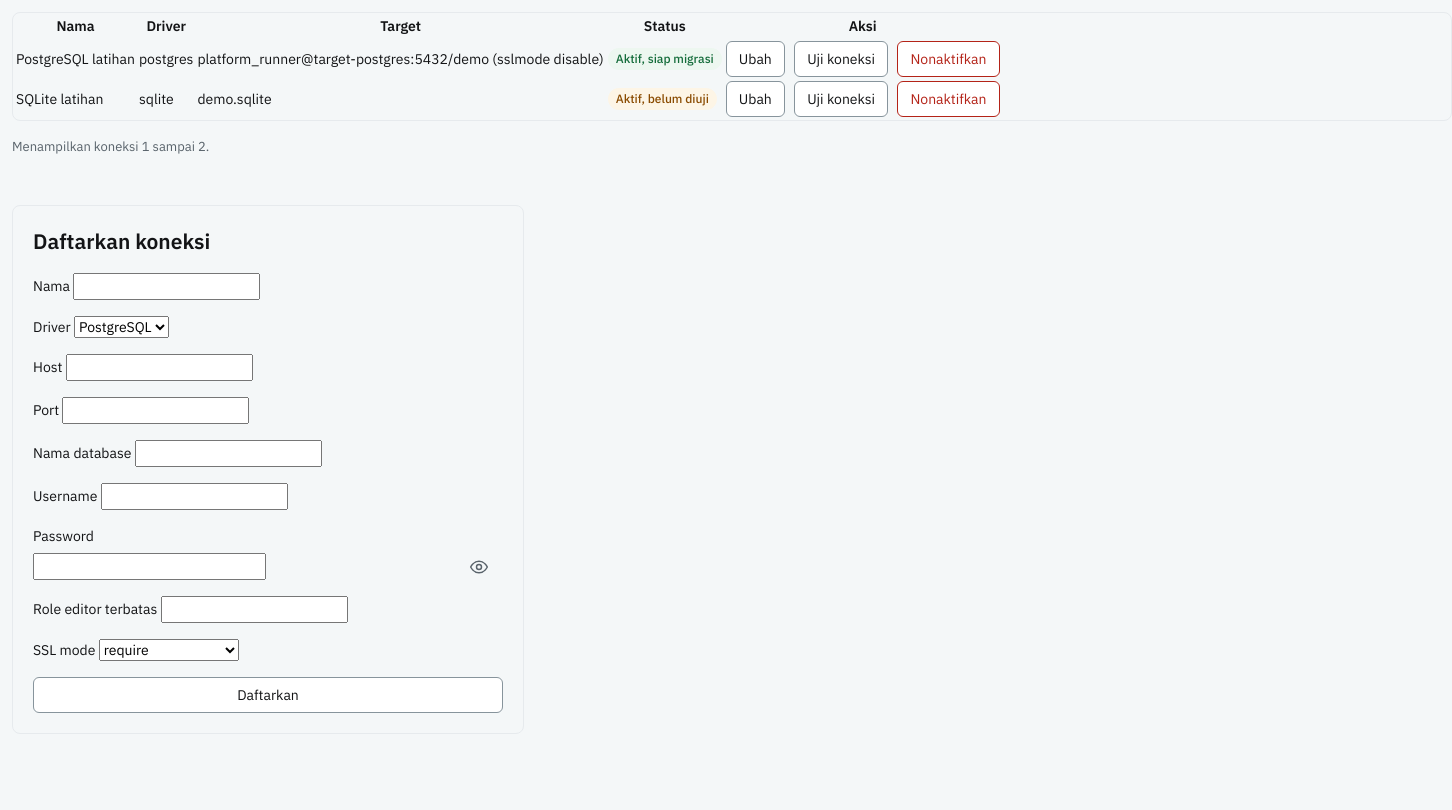
Test: ConnectionsPage › edits with the opened revision and sends only changed fields, keeping the password
Expected: the text "PostgreSQL latihan" is shown, [15,40,136,78]
Click the button "Ubah" in the row of "PostgreSQL latihan". click: (755,59)
box: [726,41,785,77]
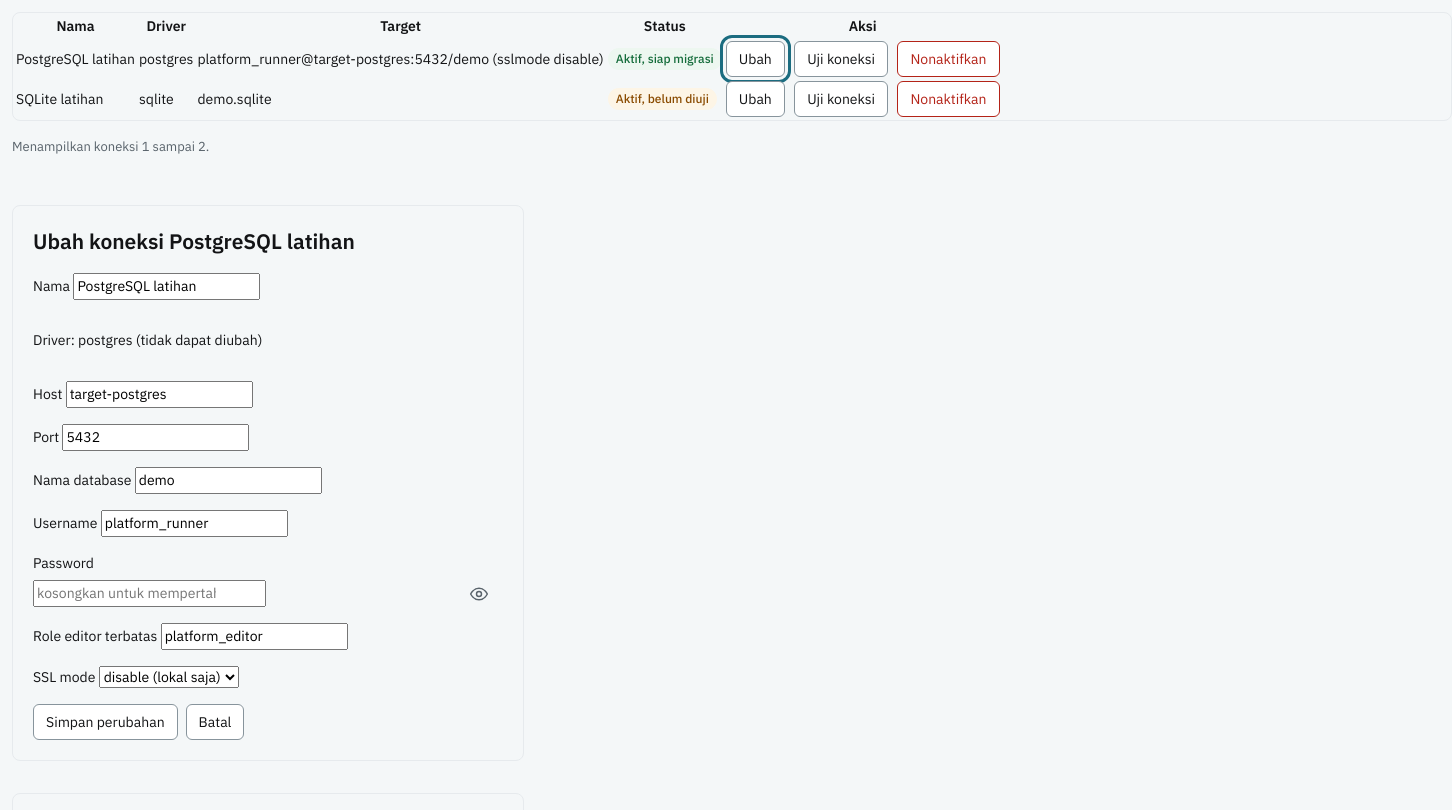
Expected: the field labelled "Host" holds "target-postgres", [66,381,253,408]
Expected: the password field labelled "Password" is empty, [33,580,266,607]
Replace the text in the number field labelled "Port" with "5433". click: (156,438)
box: [62,424,250,451]
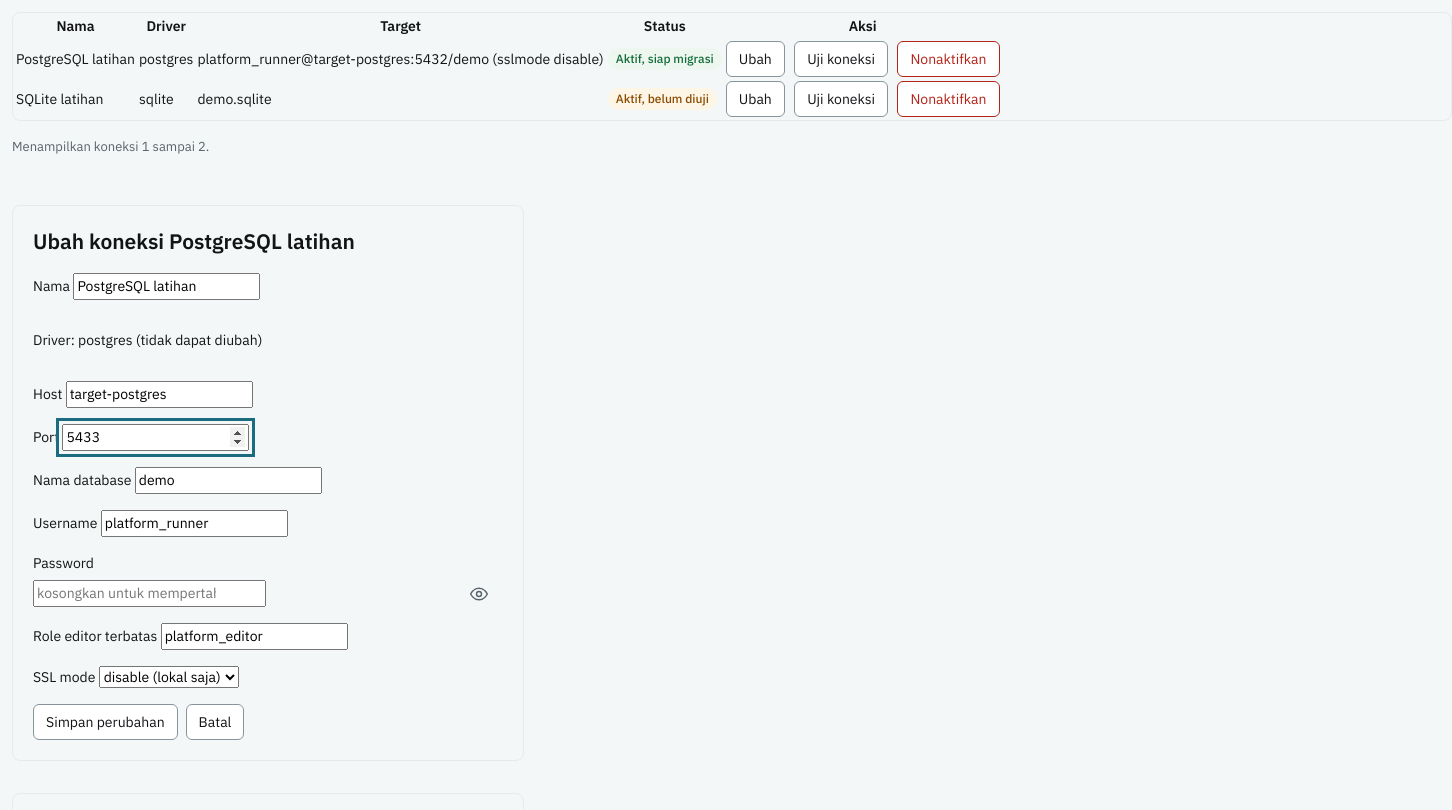
Click the button "Simpan perubahan". click: (105,722)
box: [33,704,178,740]
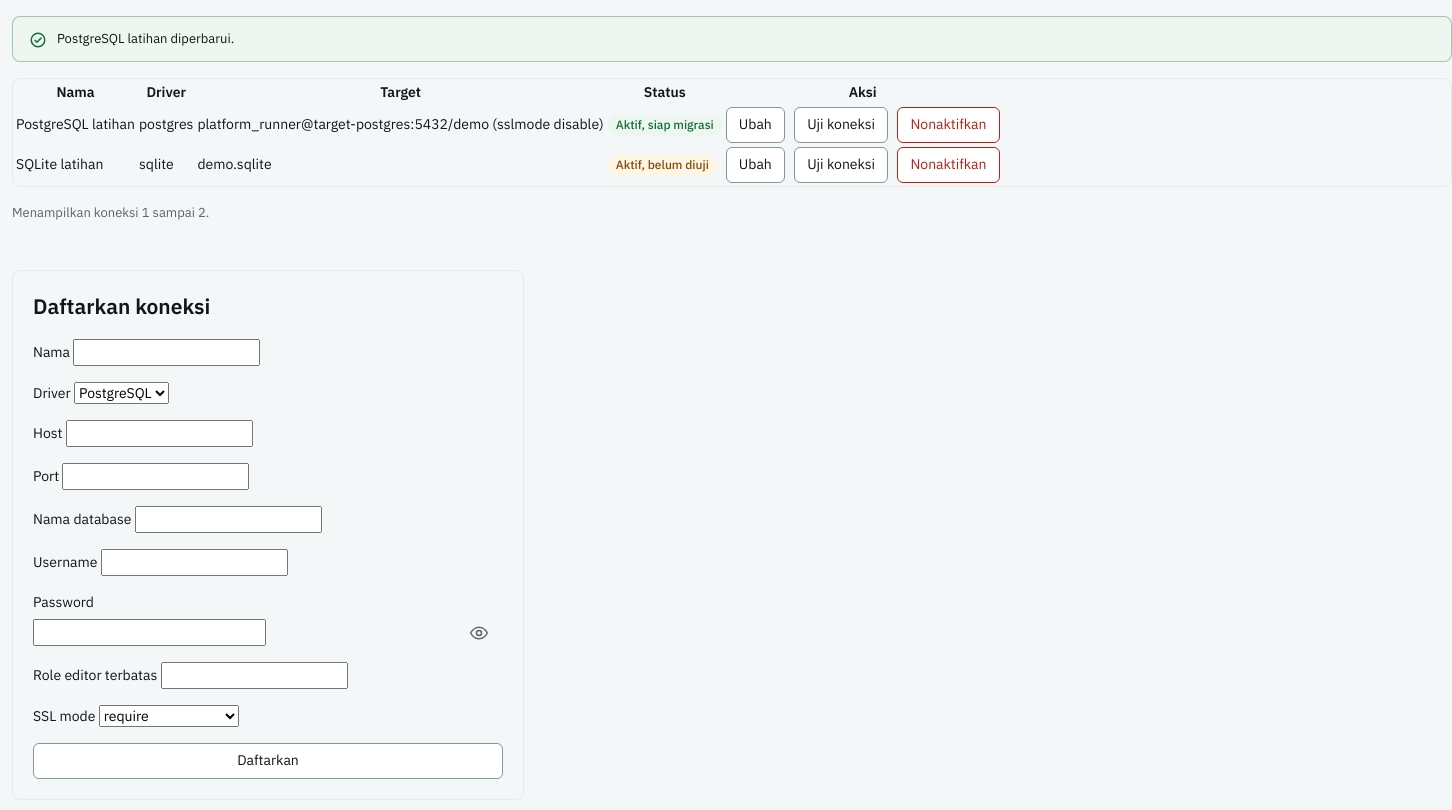
Expected: the message reads "PostgreSQL latihan diperbarui.", [57,30,234,47]
Expected: the heading "Ubah koneksi" is gone
